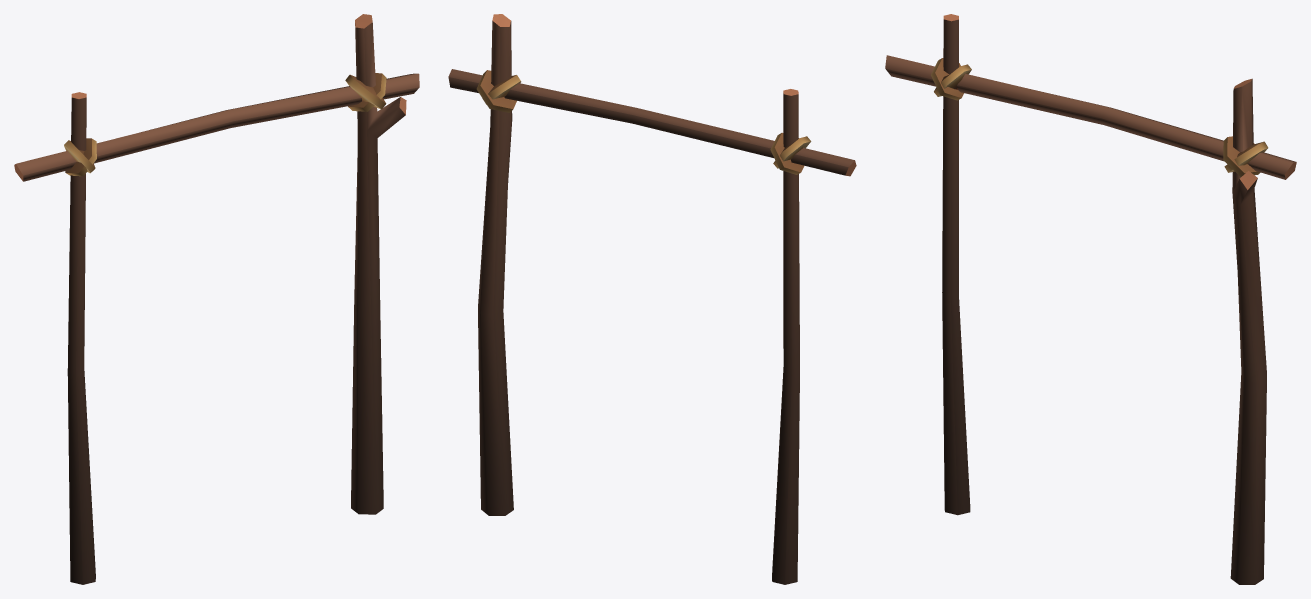
The model's file is Gate_1A.fbx.
The picture shows the model from 3 angles, left to right: view 1: azimuth 30°, elevation 25°; view 2: azimuth 150°, elevation 25°; view 3: azimuth 330°, elevation 25°; orthographic projection.
Visible parts, largest first — view 1: Gate_1A; view 2: Gate_1A; view 3: Gate_1A.
Boxes of the visible parts, x1,y1,x2,y2 form: Gate_1A: (14, 14, 419, 584); Gate_1A: (448, 14, 856, 584); Gate_1A: (885, 14, 1296, 584).
Bounding box in the file's own units: 273 × 320 × 36.24.
